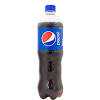pepsi_bottle: (37, 4, 63, 100)
